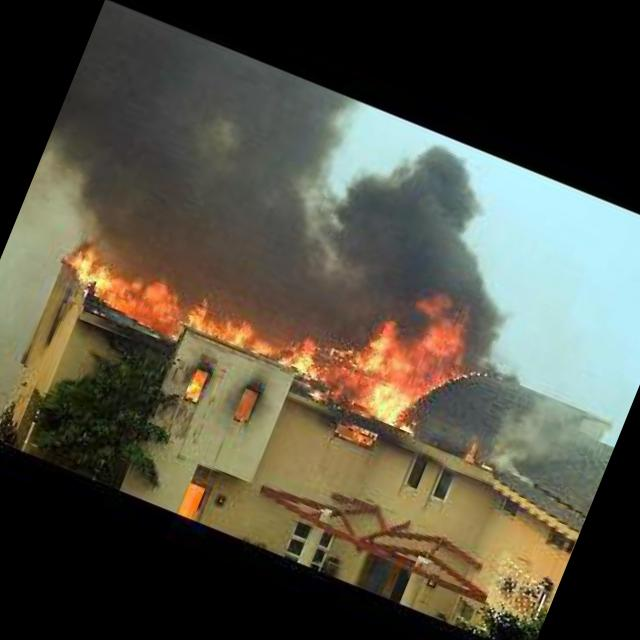fire: (59, 237, 444, 438), (342, 274, 482, 440), (336, 420, 374, 448), (468, 440, 498, 468), (186, 373, 206, 400)
smoke: (42, 0, 560, 336), (486, 368, 622, 505)
